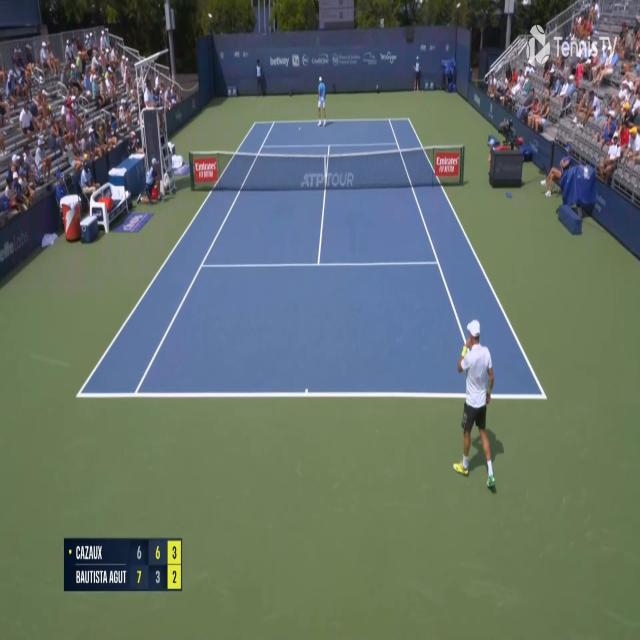tennis-player: (452, 307, 505, 495), (316, 73, 326, 128)
